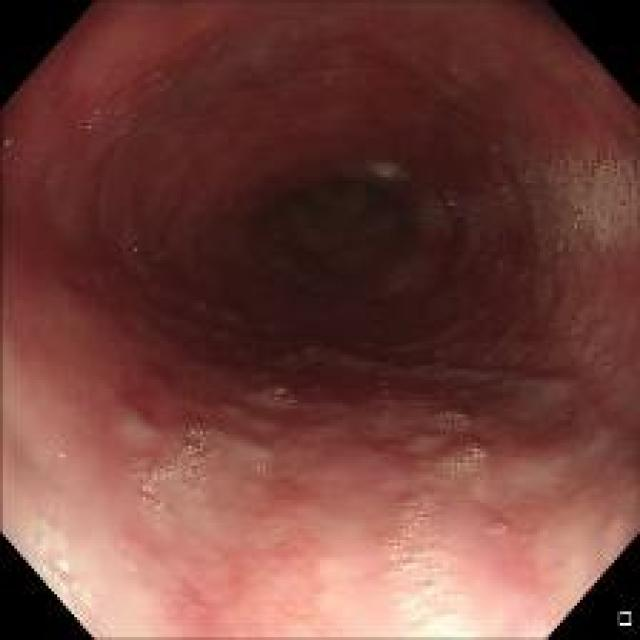bubbles: (448, 149, 638, 256), (132, 414, 238, 526), (385, 499, 475, 630), (525, 264, 618, 379), (20, 512, 105, 620), (442, 441, 489, 471), (261, 375, 294, 410), (406, 430, 442, 451), (464, 475, 492, 500), (445, 65, 478, 84), (482, 520, 512, 539), (440, 409, 468, 428), (246, 461, 268, 479), (36, 174, 56, 191)
color misalignment: (134, 459, 165, 511), (186, 425, 208, 492), (449, 444, 486, 469), (562, 308, 586, 341), (401, 502, 430, 529), (46, 569, 70, 584), (174, 469, 190, 489), (569, 216, 582, 235), (275, 385, 282, 404)
contrast: (152, 109, 525, 379)
saturation: (392, 584, 485, 639)
